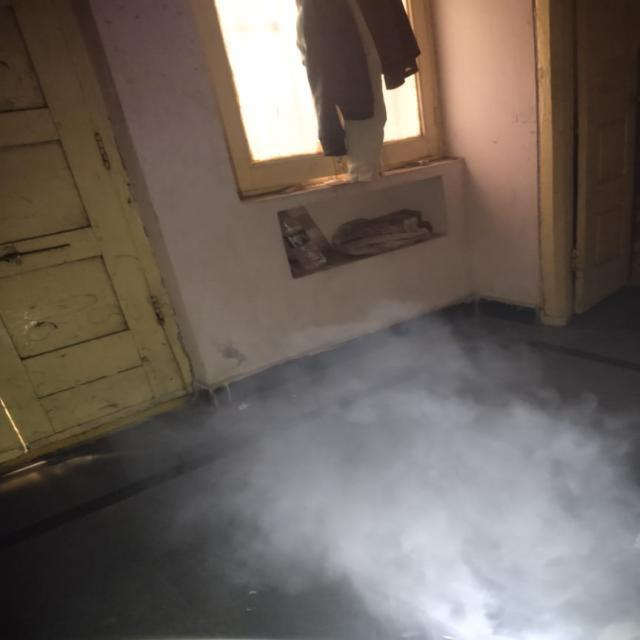fire: (150, 286, 637, 634)
